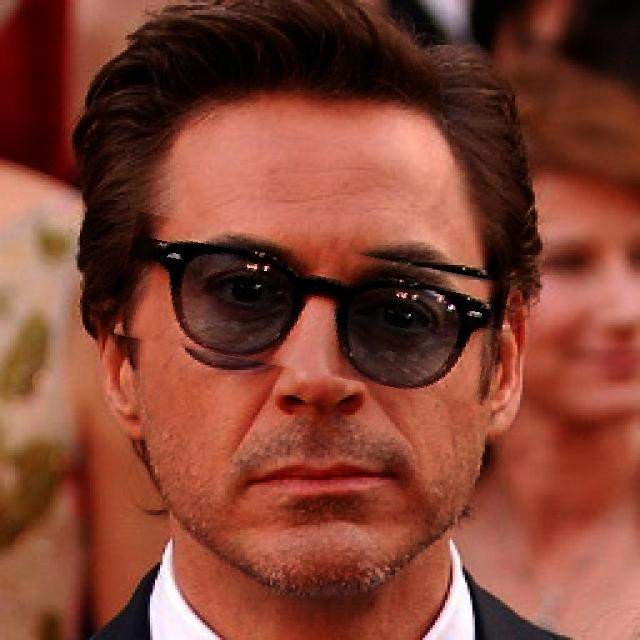glasses: (118, 228, 506, 388)
